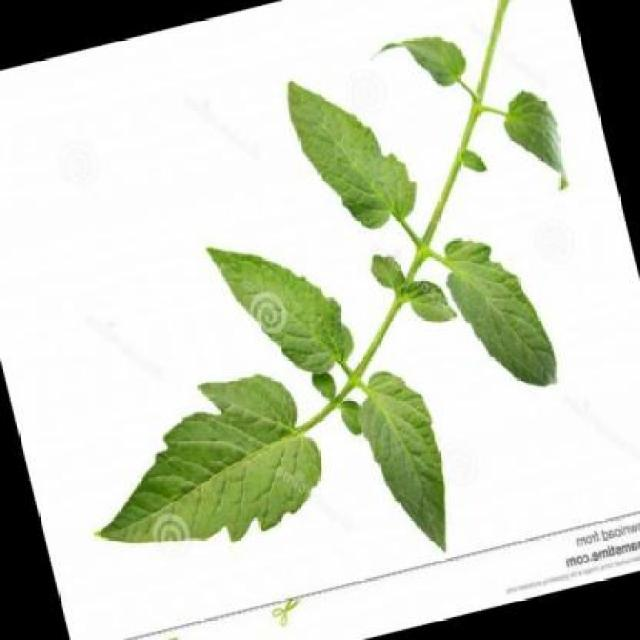Healthy Leaf: (54, 345, 340, 617), (252, 28, 457, 268), (164, 203, 384, 415), (306, 340, 496, 575), (382, 208, 582, 430), (488, 77, 590, 212), (365, 3, 477, 122)
